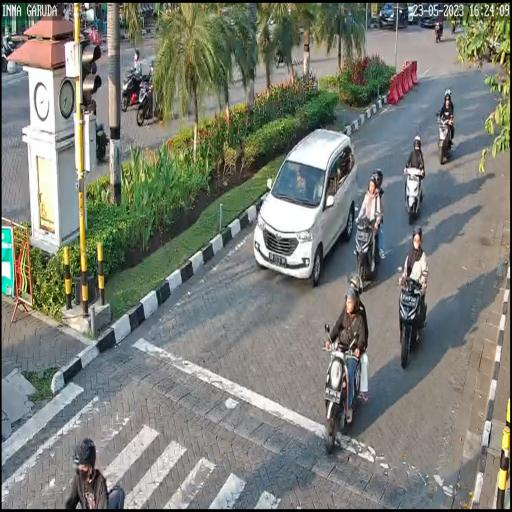mobil: (254, 123, 362, 283)
motor: (320, 314, 370, 455), (395, 260, 429, 368), (353, 203, 382, 283), (400, 154, 428, 215), (432, 110, 458, 165)
